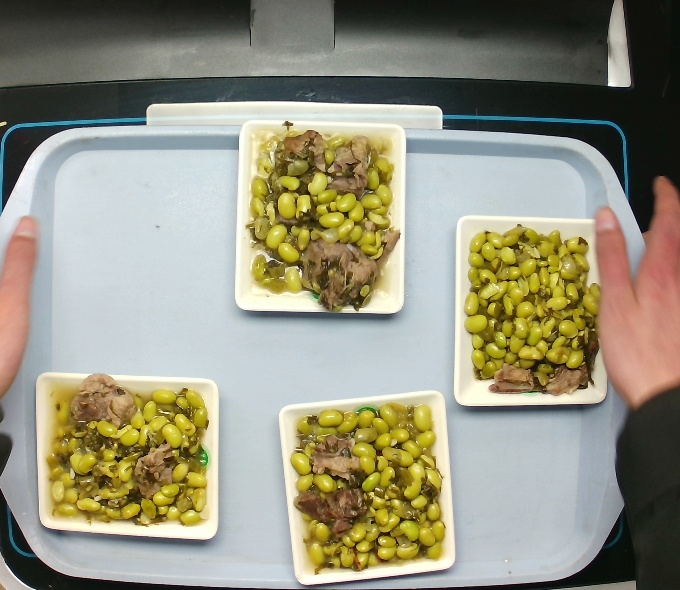wcq-ZhuRouDunDou: (235, 118, 410, 311), (285, 396, 454, 582), (46, 365, 222, 539), (459, 219, 607, 400)
